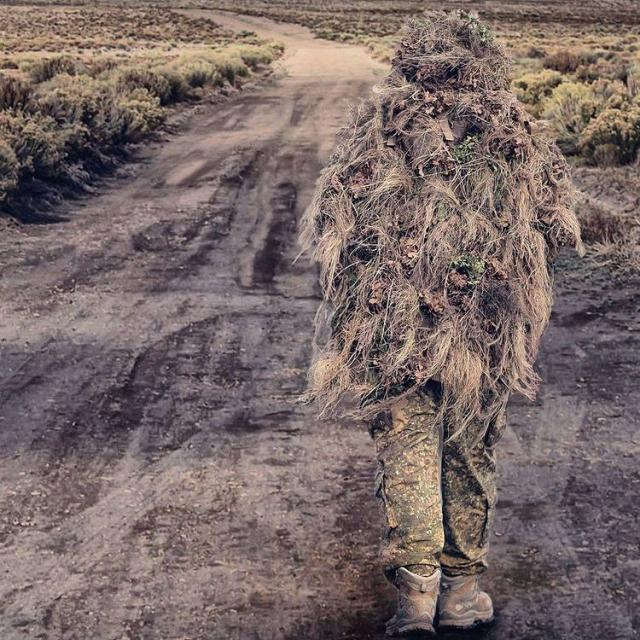Human: (297, 12, 586, 622)
